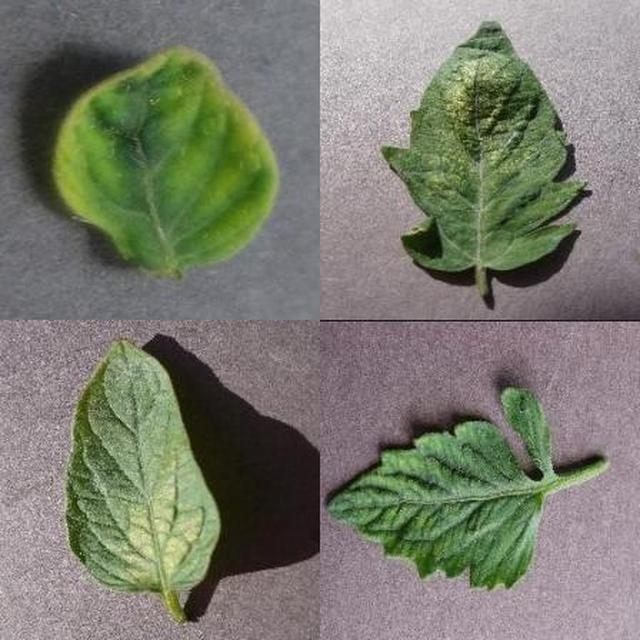Yellow Leaf Curl Virus: (204, 207, 640, 640)
